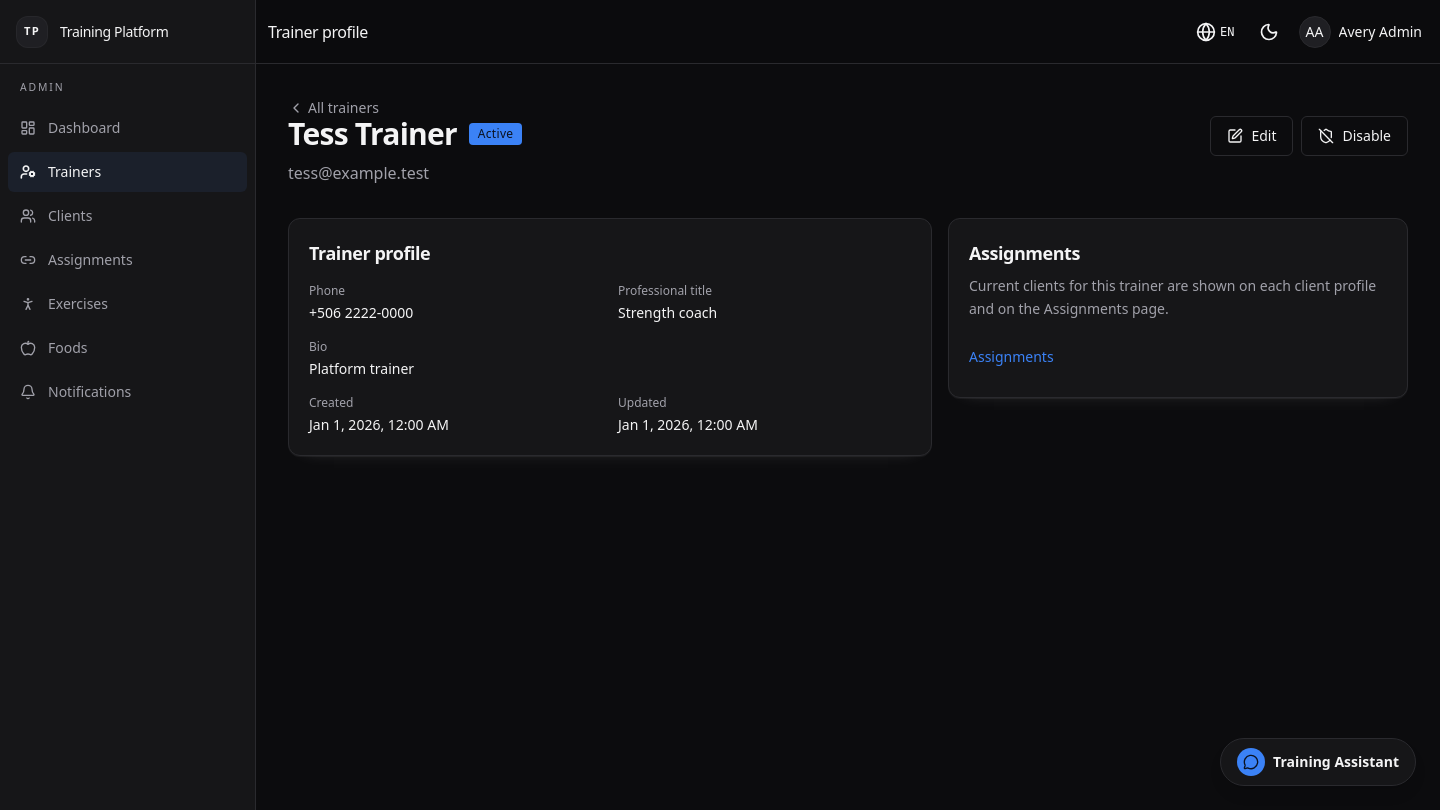
it: Admin workspace › trainers › disables a trainer after confirmation
The width and height of the screenshot is (1440, 810).
Expected: the heading "Tess Trainer" is shown, [288,116,457,152]
Click the button "Disable": (1355, 136) [1302,116,1408,156]
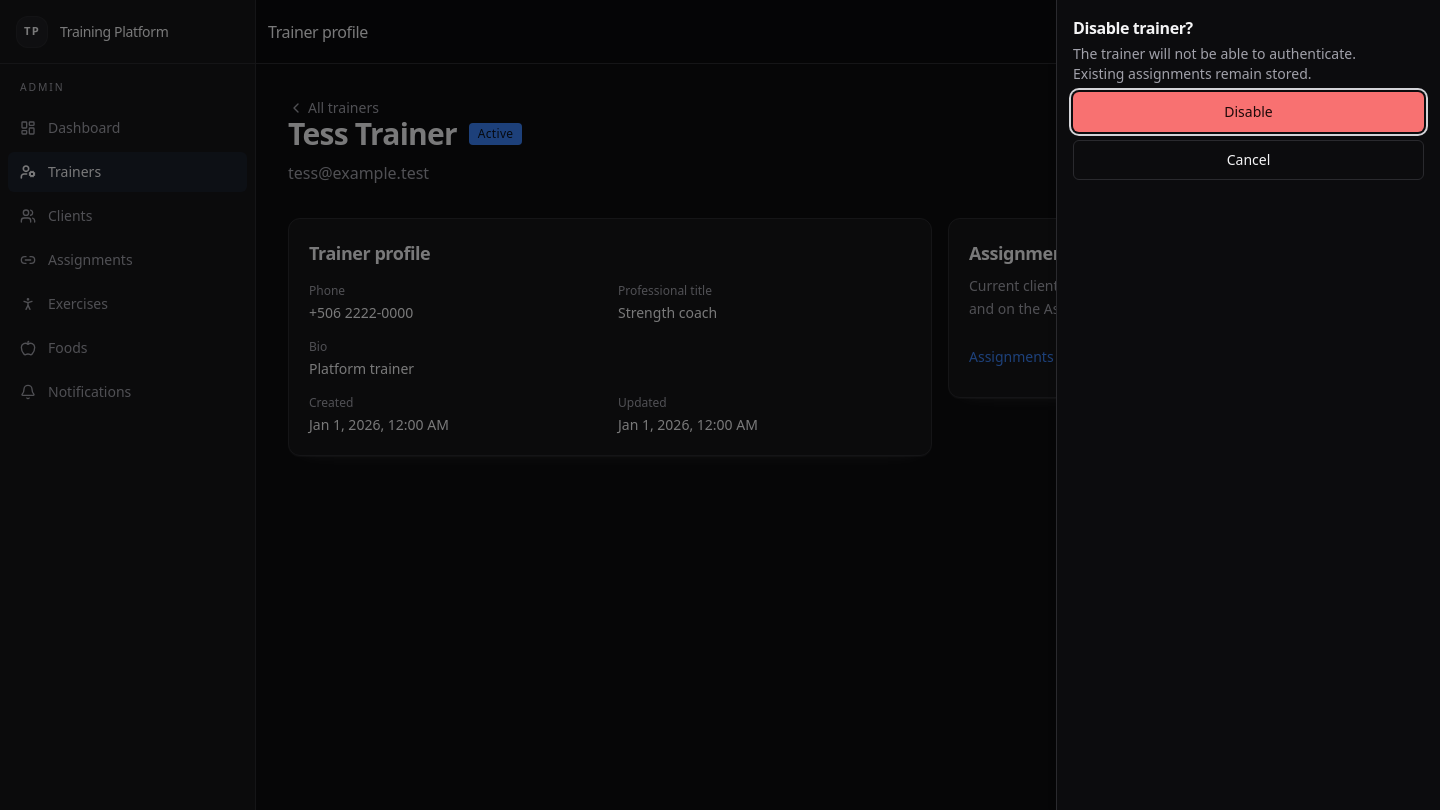
Click the button "Disable": (1248, 112) [1073,92,1424,132]
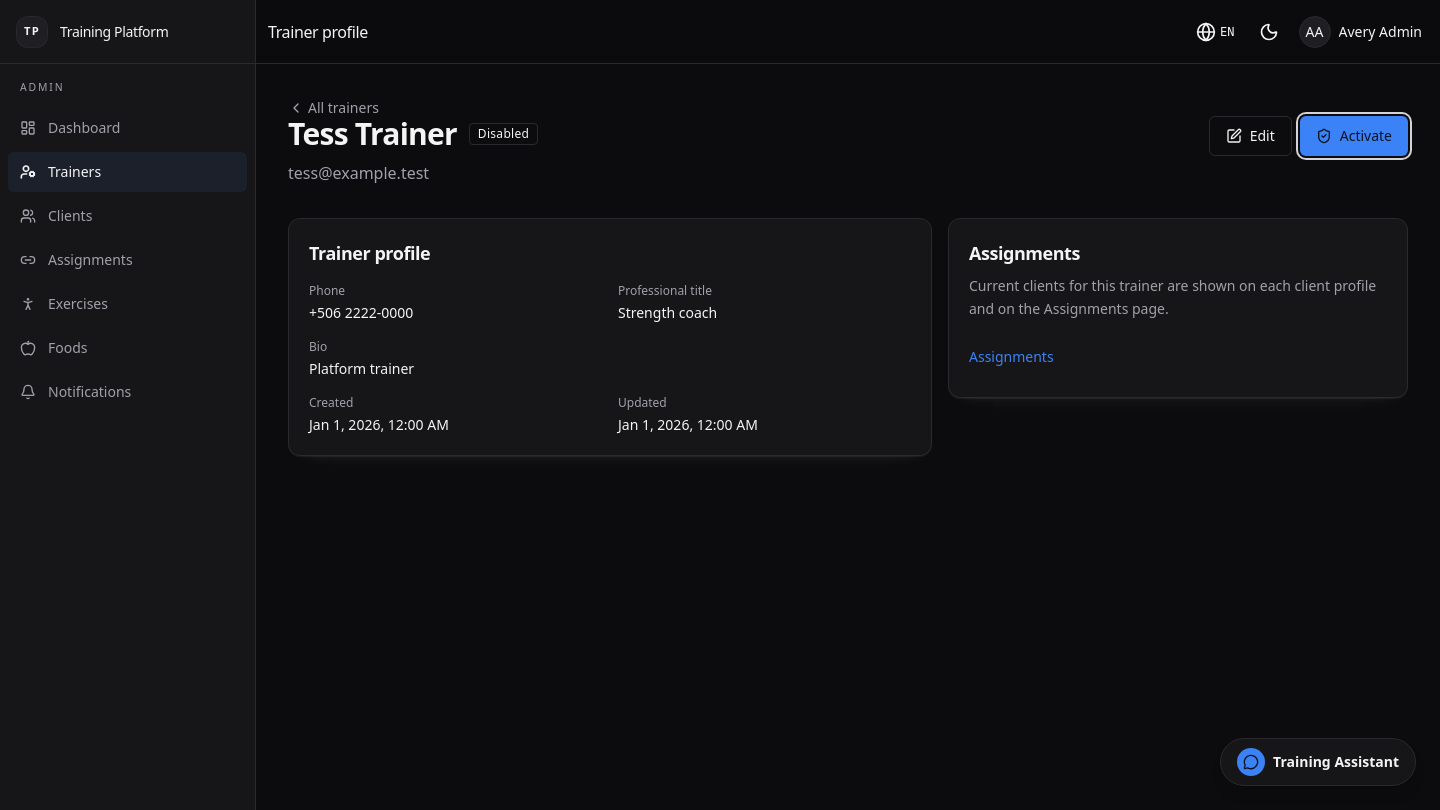
Result: the text "Disabled" is shown at [469,123,538,145]
